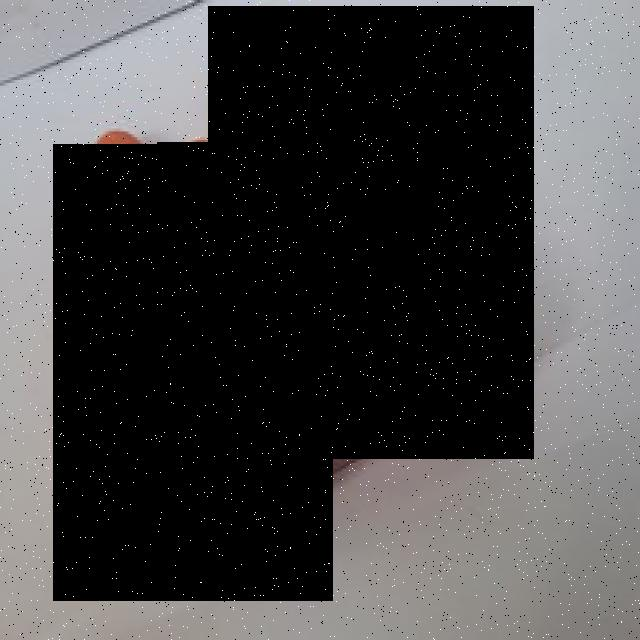Carrot: (209, 7, 535, 460), (54, 144, 334, 601), (158, 143, 364, 412)
